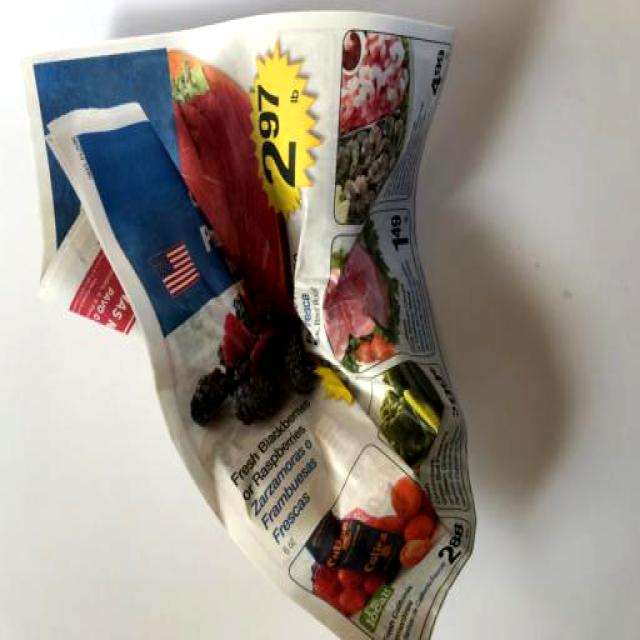Paper: (9, 5, 488, 640)
